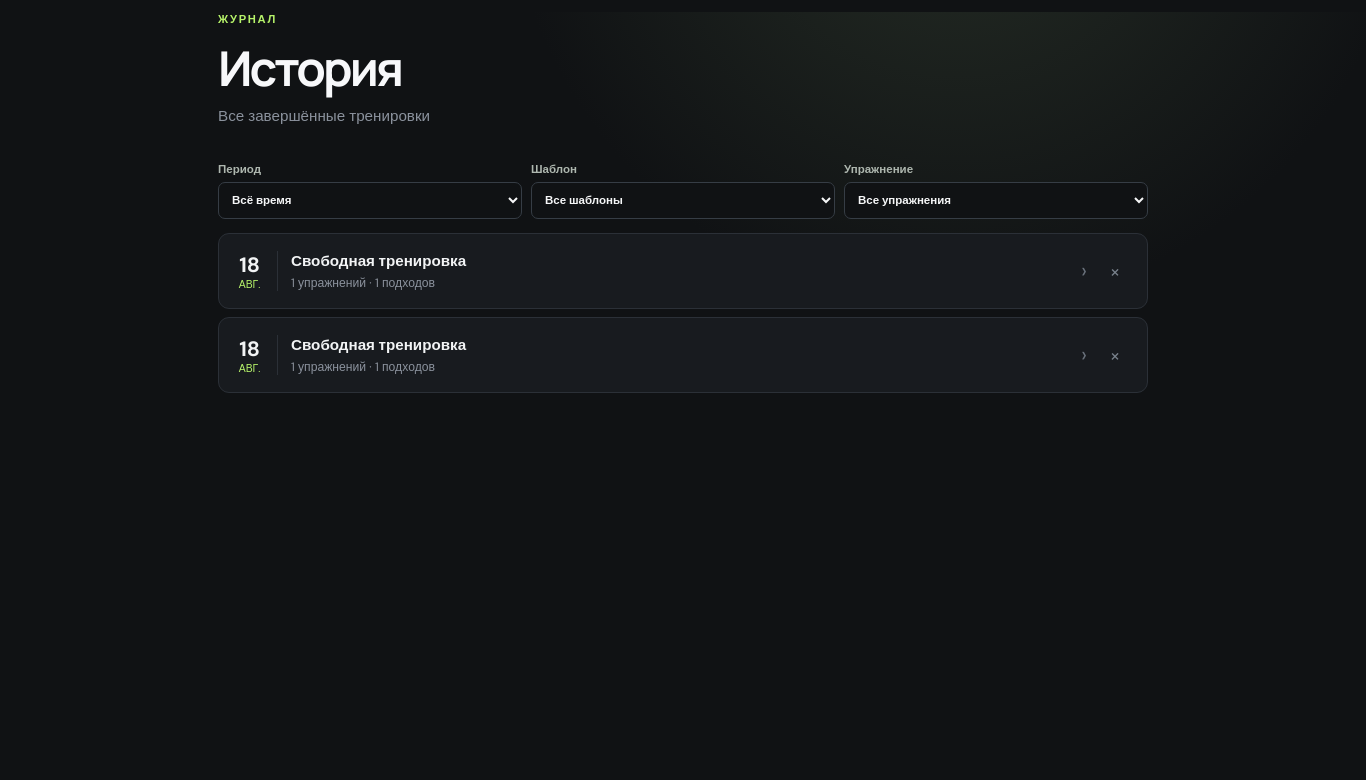
it: HistoryPage › shows exercise names and a safe fallback instead of internal ids
What coordinates should you click on to do the following:
click the button with aria-label "Открыть тренировку Свободная тренировка"
I would click on:
 (257, 271)
Its box is [236,251,1087,291].
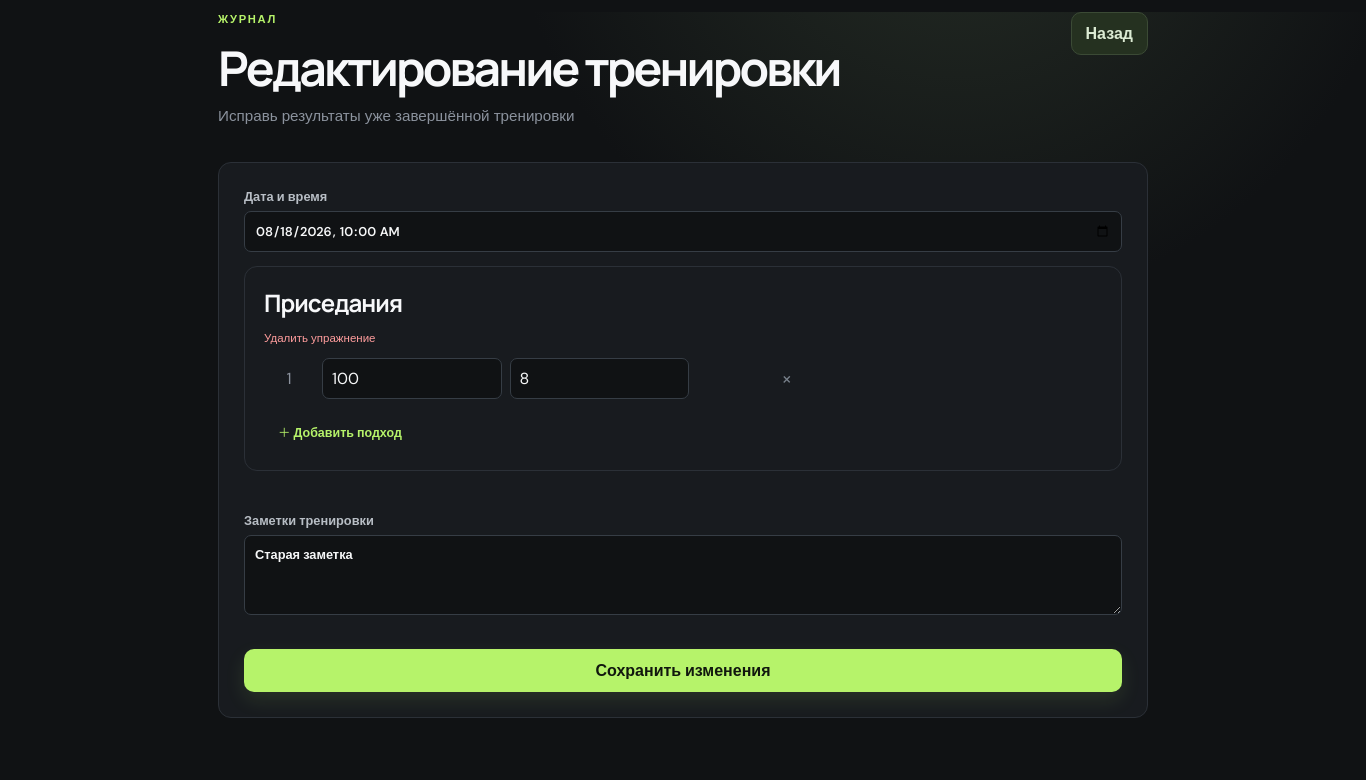
expect the heading "Приседания" is shown: met, box [264,286,402,319]
What coordinates should you click on to do the following:
click the button "Назад"
I would click on:
 (1109, 34)
Its box is [1070,12,1148,55].
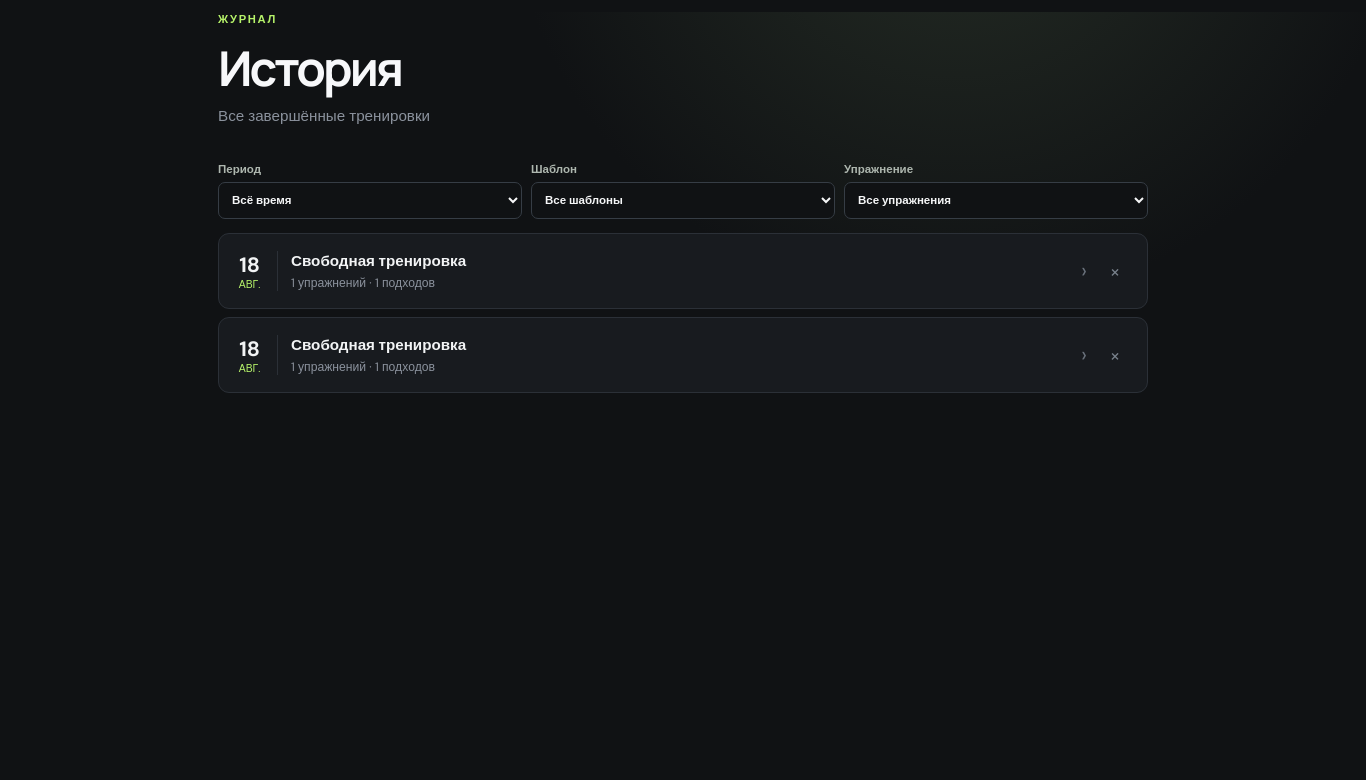
What coordinates should you click on to do the following:
click the button with aria-label "Открыть тренировку Свободная тренировка"
I would click on:
 (257, 355)
Its box is [236,335,1087,375].
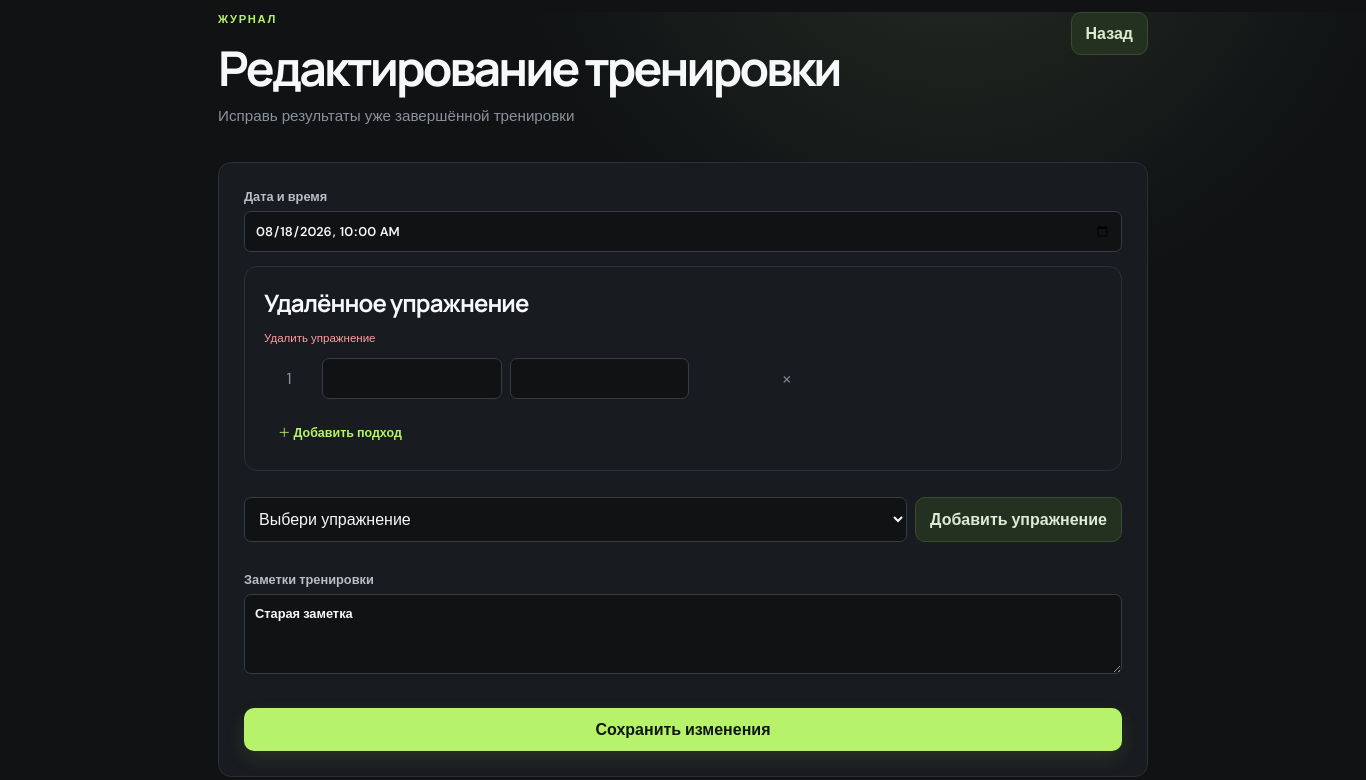
expect the heading "Удалённое упражнение" is shown: met, box [264,286,528,319]
